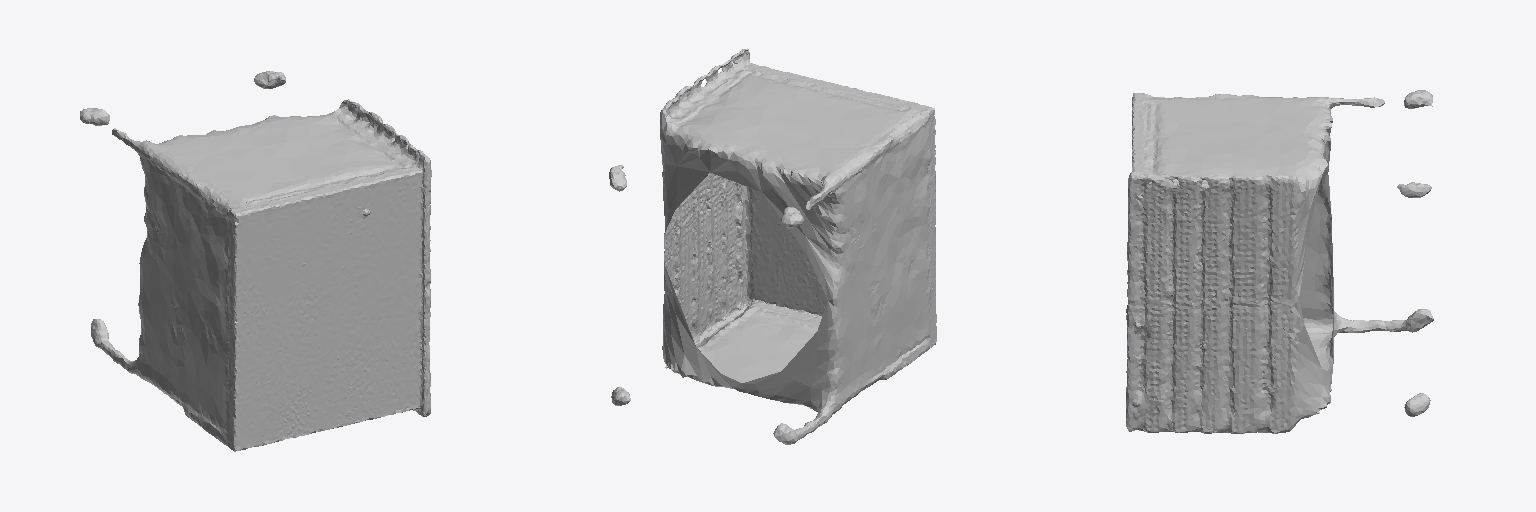
Rendered from table.obj.
3 views of the same model, side by side, from view 1: azimuth 30°, elevation 25°; view 2: azimuth 150°, elevation 25°; view 3: azimuth 270°, elevation 25° (orthographic).
Visible parts, largest first — view 1: AR-Code-Object-Capture-app-[number redacted]; view 2: AR-Code-Object-Capture-app-[number redacted]; view 3: AR-Code-Object-Capture-app-[number redacted].
Boxes of the visible parts, x1=… form: AR-Code-Object-Capture-app-[number redacted]: x1=80, y1=71, x2=431, y2=451; AR-Code-Object-Capture-app-[number redacted]: x1=609, y1=48, x2=936, y2=444; AR-Code-Object-Capture-app-[number redacted]: x1=1126, y1=90, x2=1433, y2=433.
Bounding box in the file's own units: 0.5288 × 0.6308 × 0.6755.